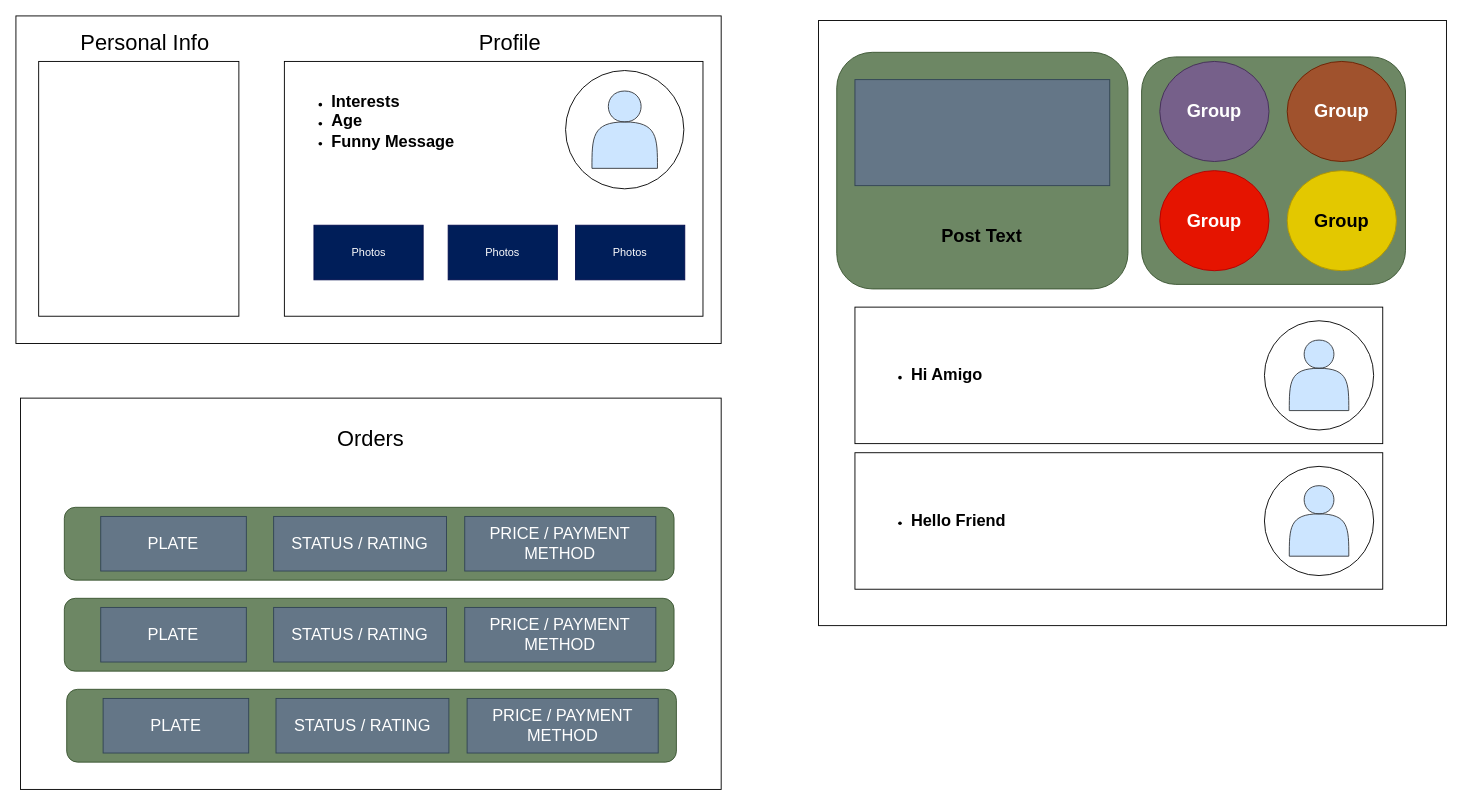
The diagram is 1462 pixels wide and 805 high, and some of its shapes have lost their labels. The centre of each missing label's shape, as x and y in pixels:
"Adress Age Email Phone Credit Card" goes at pixel 138 188.
"Post" goes at pixel 982 132.
